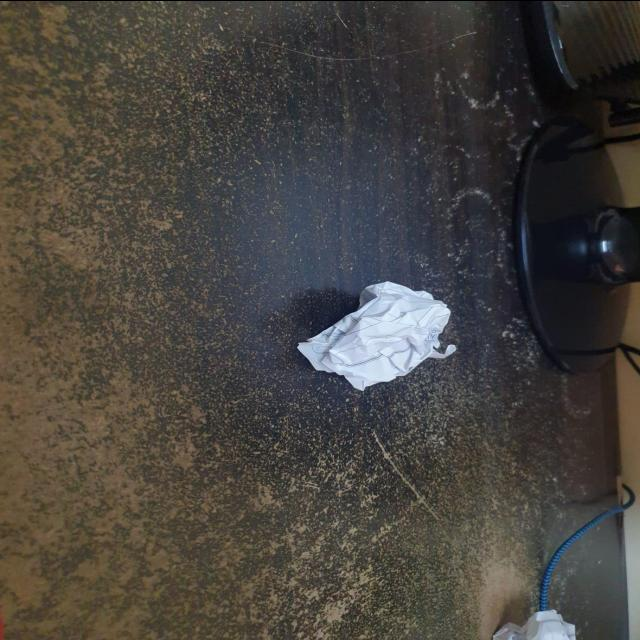kertas: (312, 282, 459, 390)
